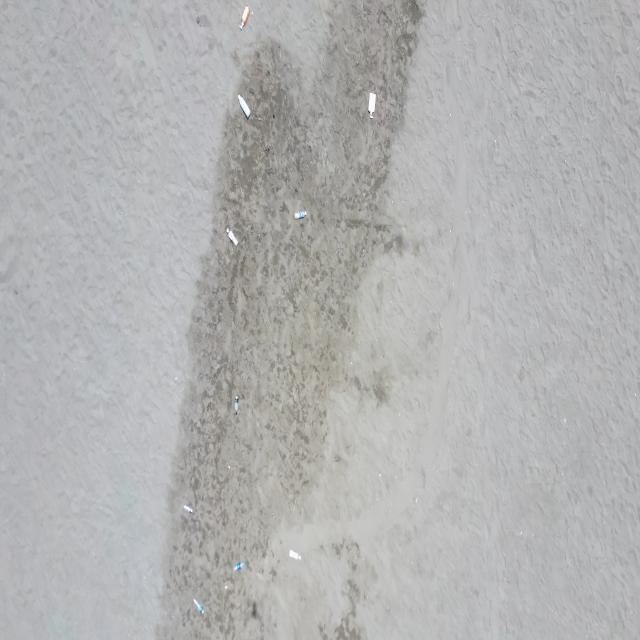plastic-bottle: (238, 93, 252, 121), (238, 5, 250, 31), (366, 92, 376, 120), (226, 228, 237, 248), (234, 560, 249, 574), (192, 596, 203, 615), (288, 548, 301, 563), (182, 501, 195, 514), (232, 396, 240, 415), (295, 209, 307, 221)
